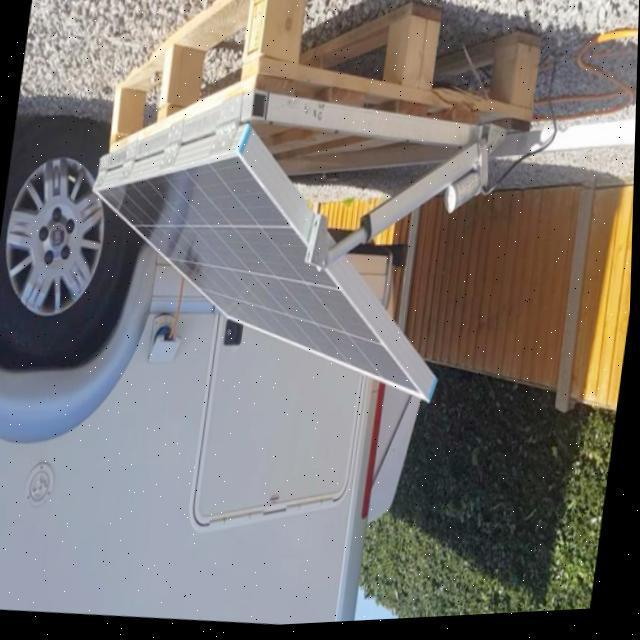Normal Solar Panel: (68, 128, 461, 416)
